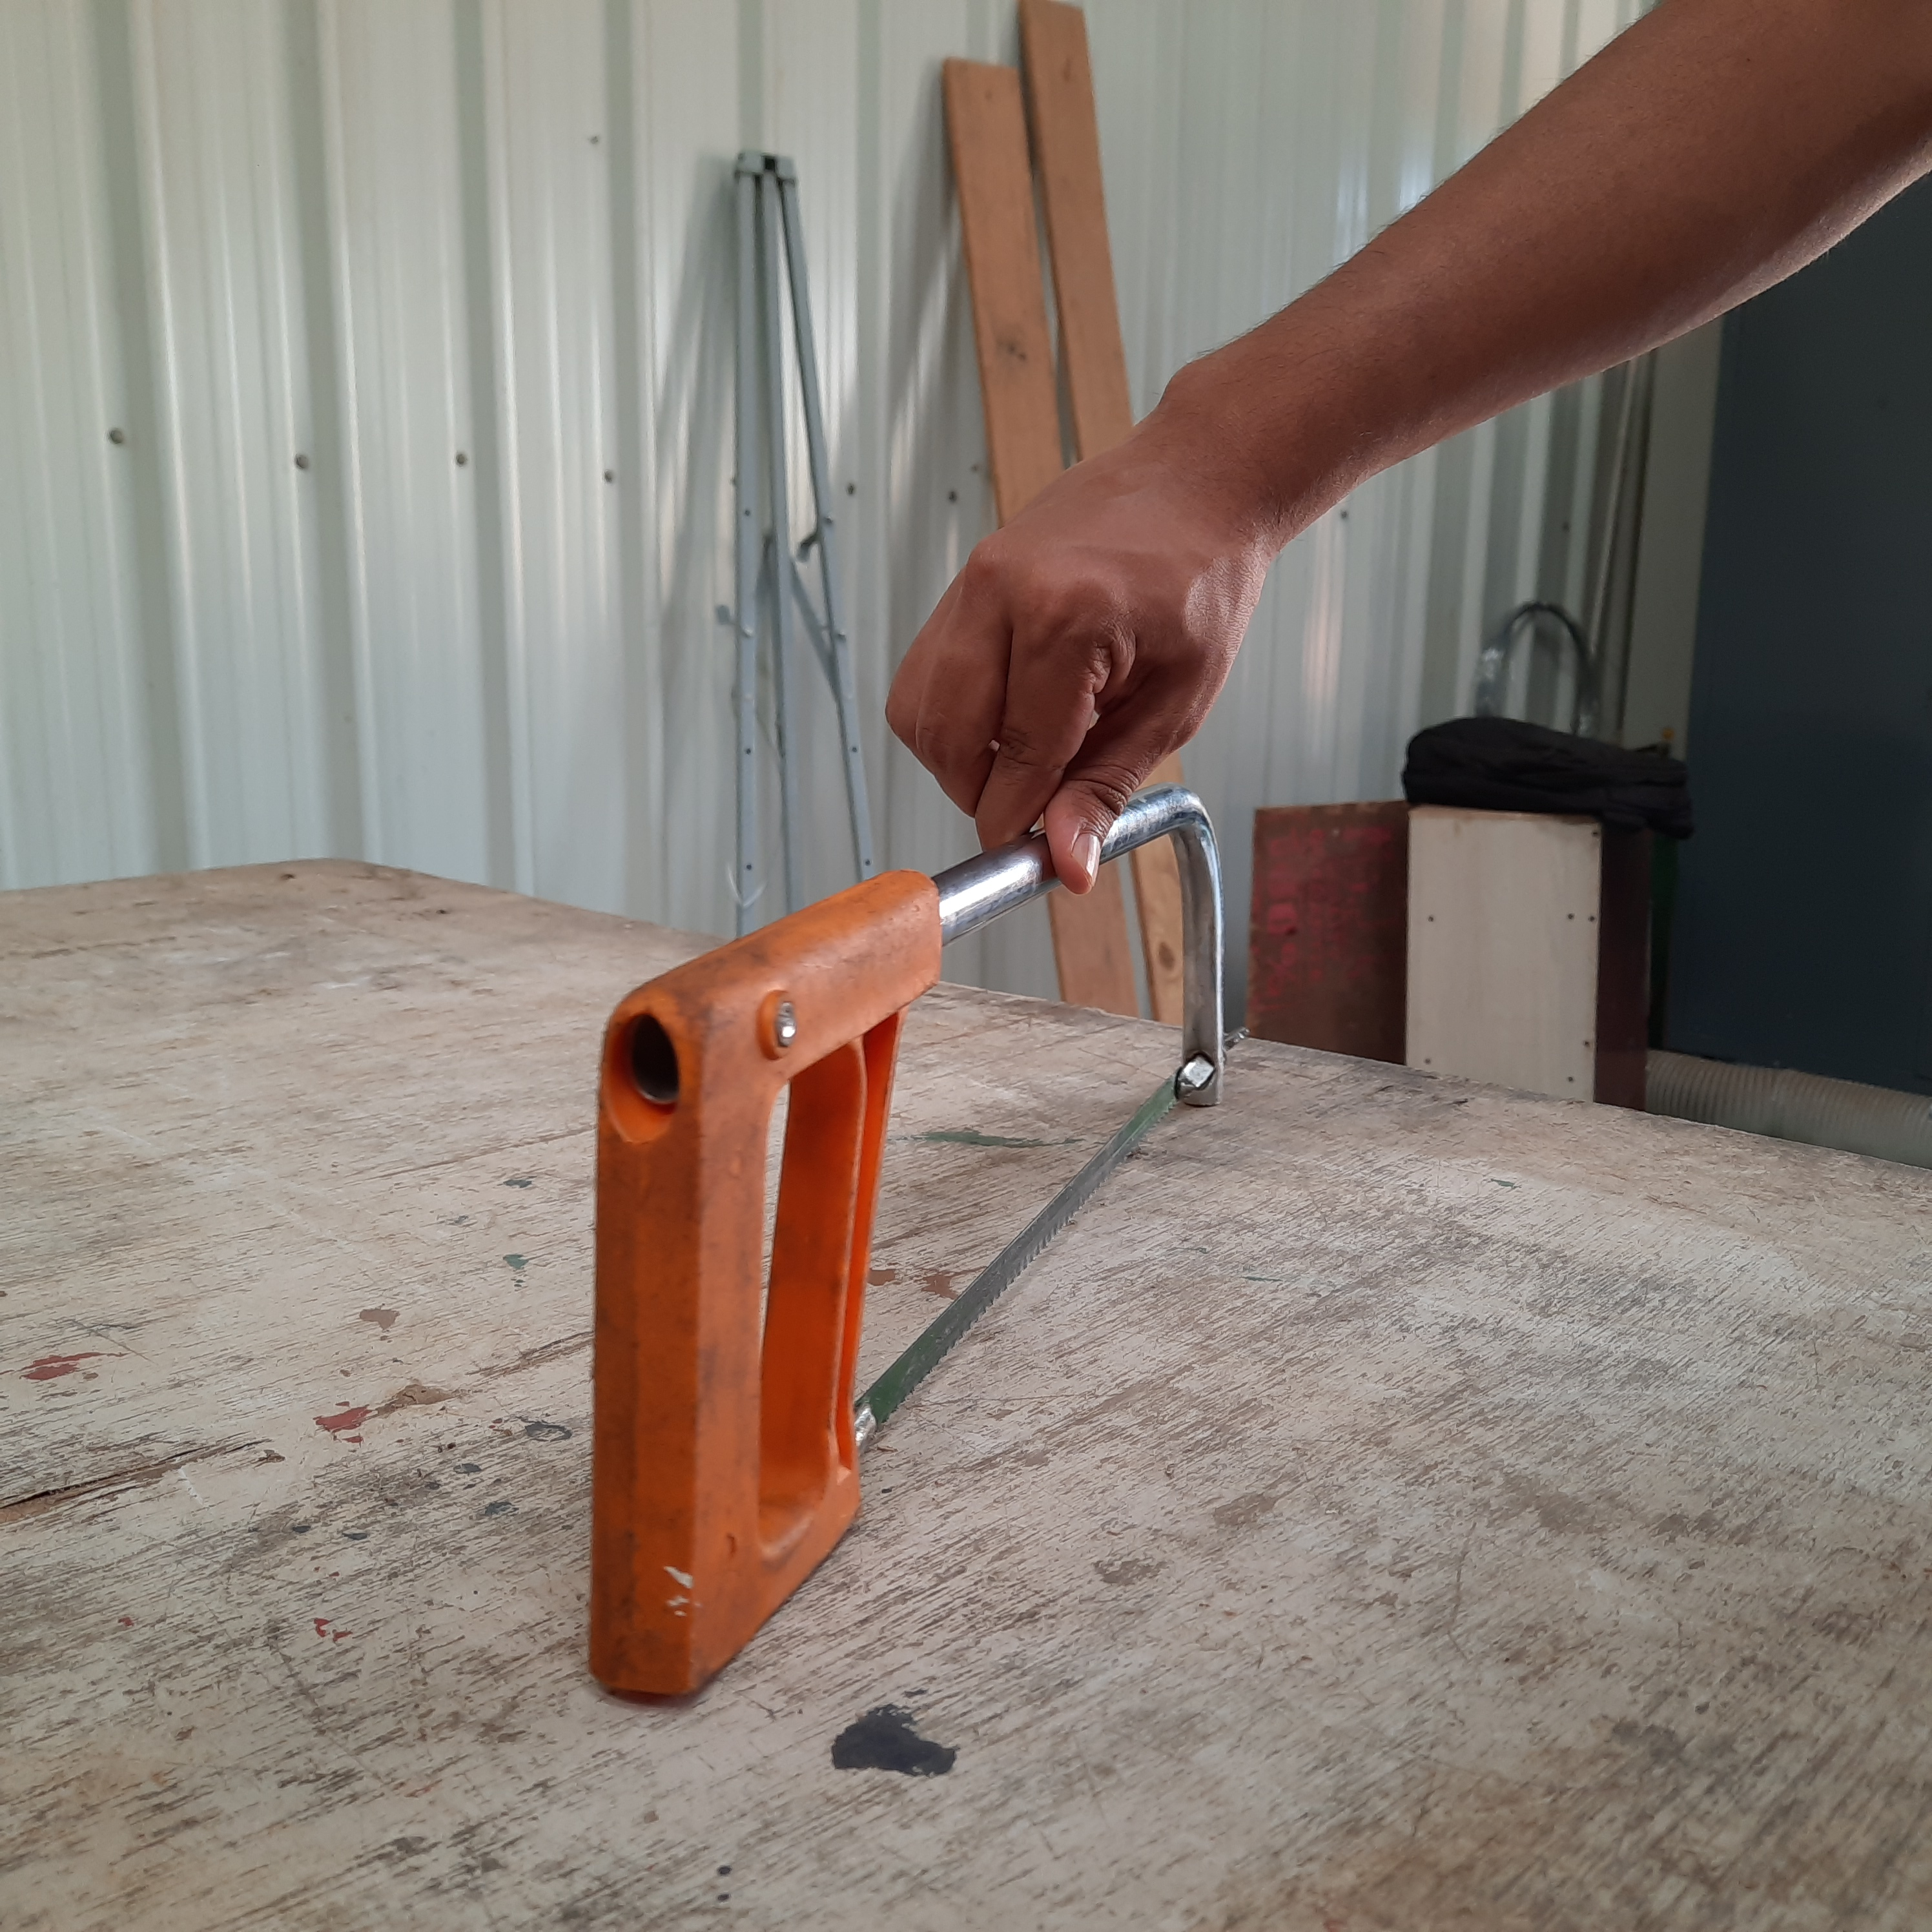Hexaframe: (556, 784, 1286, 1714)
